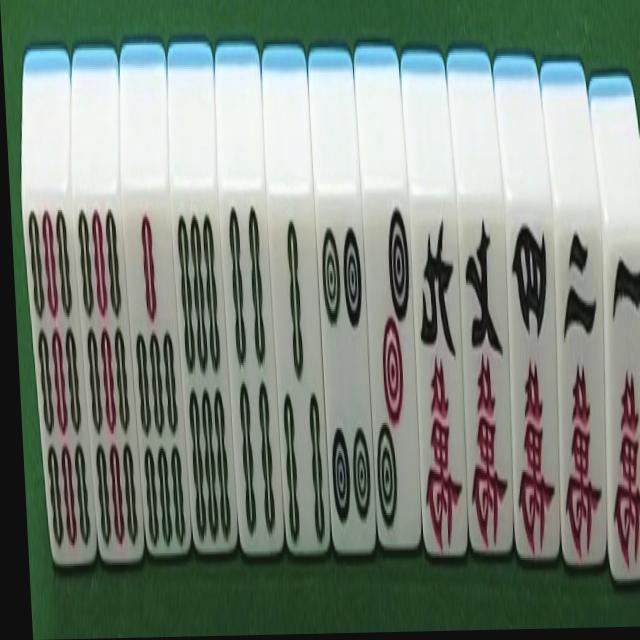m1: (586, 84, 640, 593)
m2: (537, 59, 620, 582)
m4: (490, 54, 571, 574)
m7: (445, 48, 523, 566)
m9: (397, 52, 475, 568)
s3: (259, 48, 334, 570)
s4: (211, 45, 287, 575)
s6: (163, 45, 242, 579)
s7: (114, 44, 195, 582)
s9: (14, 50, 98, 588), (64, 49, 147, 588)
t3: (352, 46, 428, 560)
t4: (305, 47, 380, 565)
